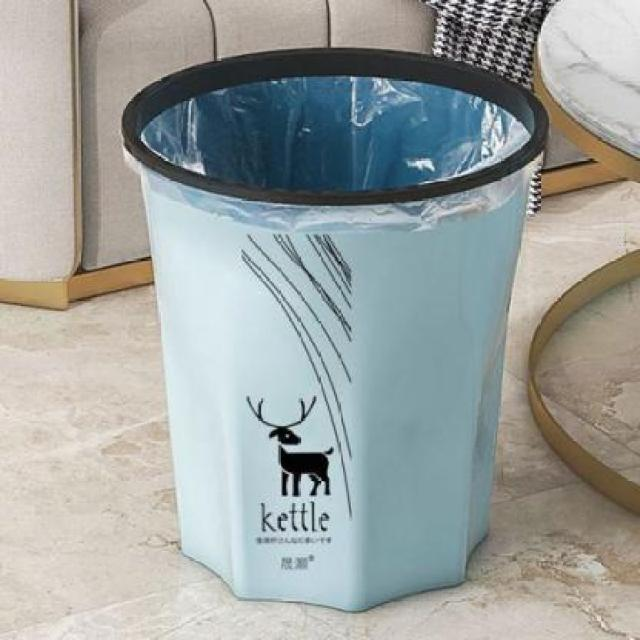dustbin: (117, 43, 554, 620)
